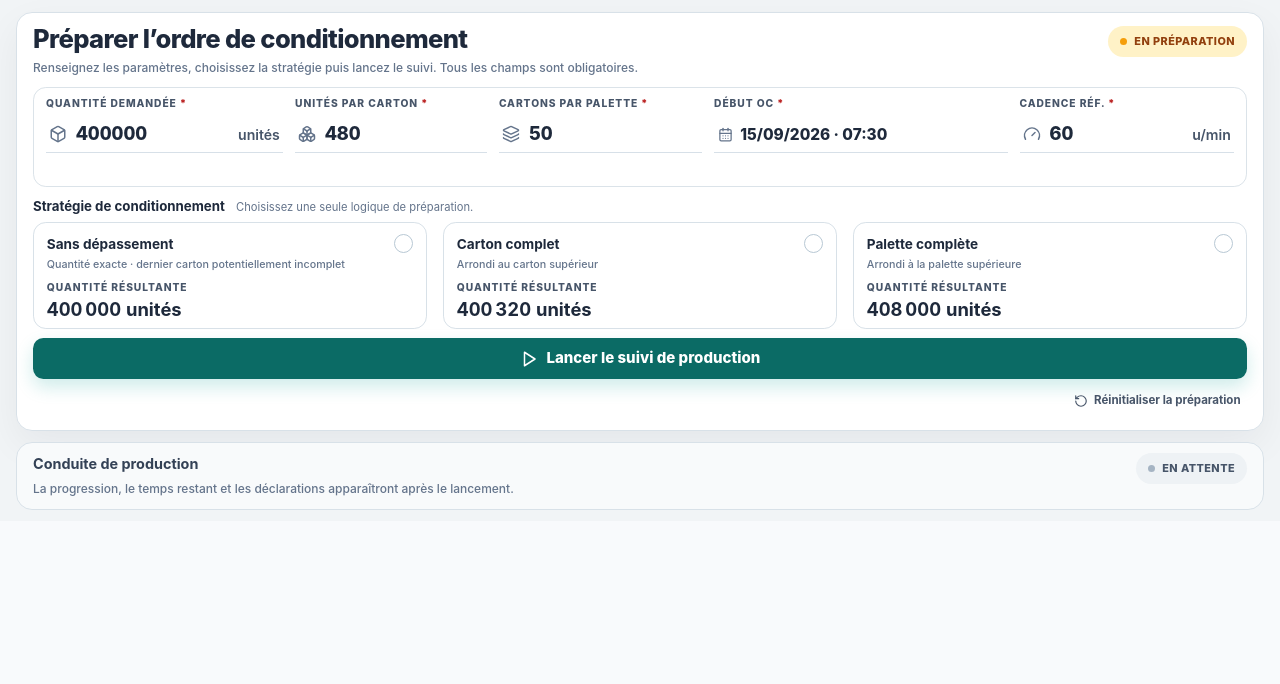
Test: PackingCalculatorPage V3 operator workflow › previews and records cartons plus units in the incomplete carton
Click the radio button labelled "Carton complet" at (508,244), box [443, 222, 837, 329]
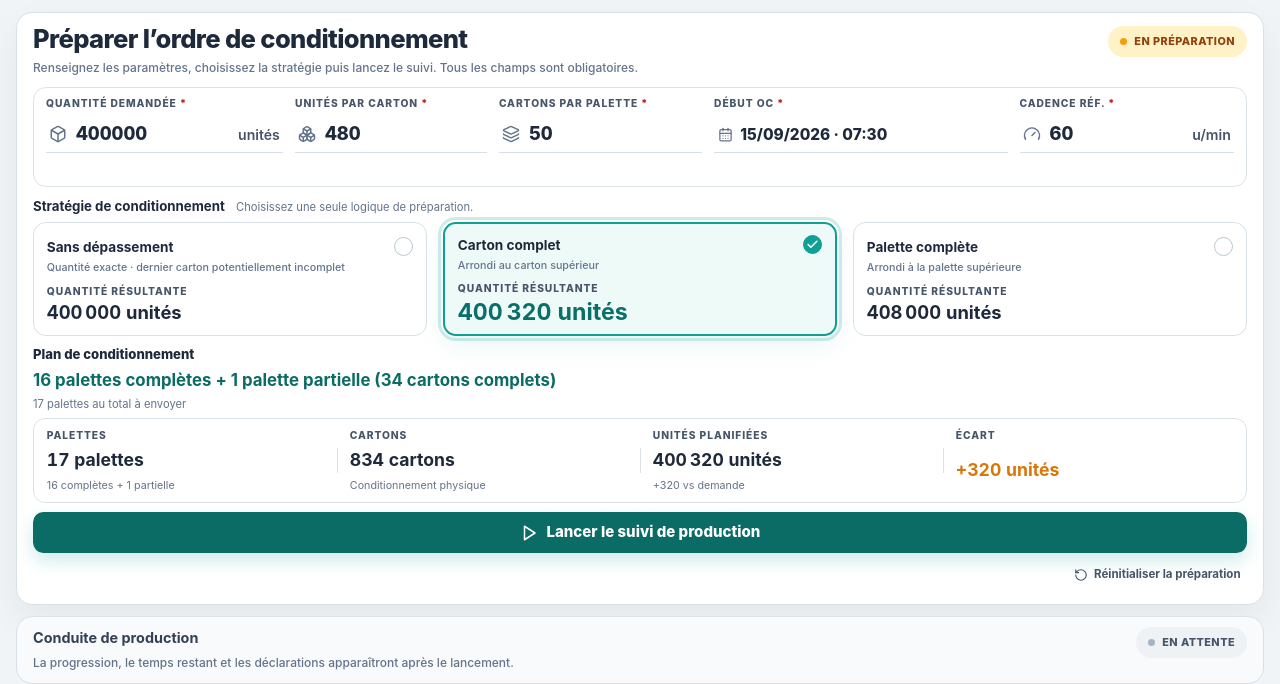
Click the button "Lancer le suivi de production" at (640,533), box [33, 512, 1247, 553]
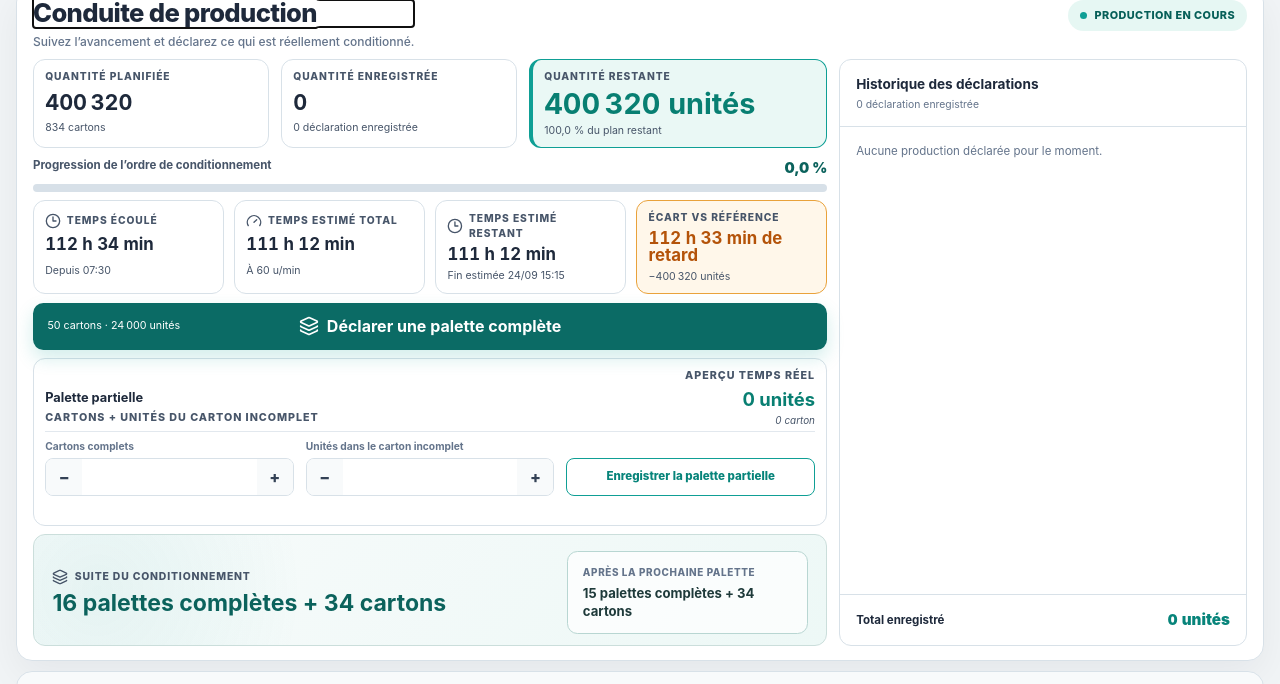
Type "10" into the field named "Cartons complets" at (170,477), box [82, 459, 257, 494]
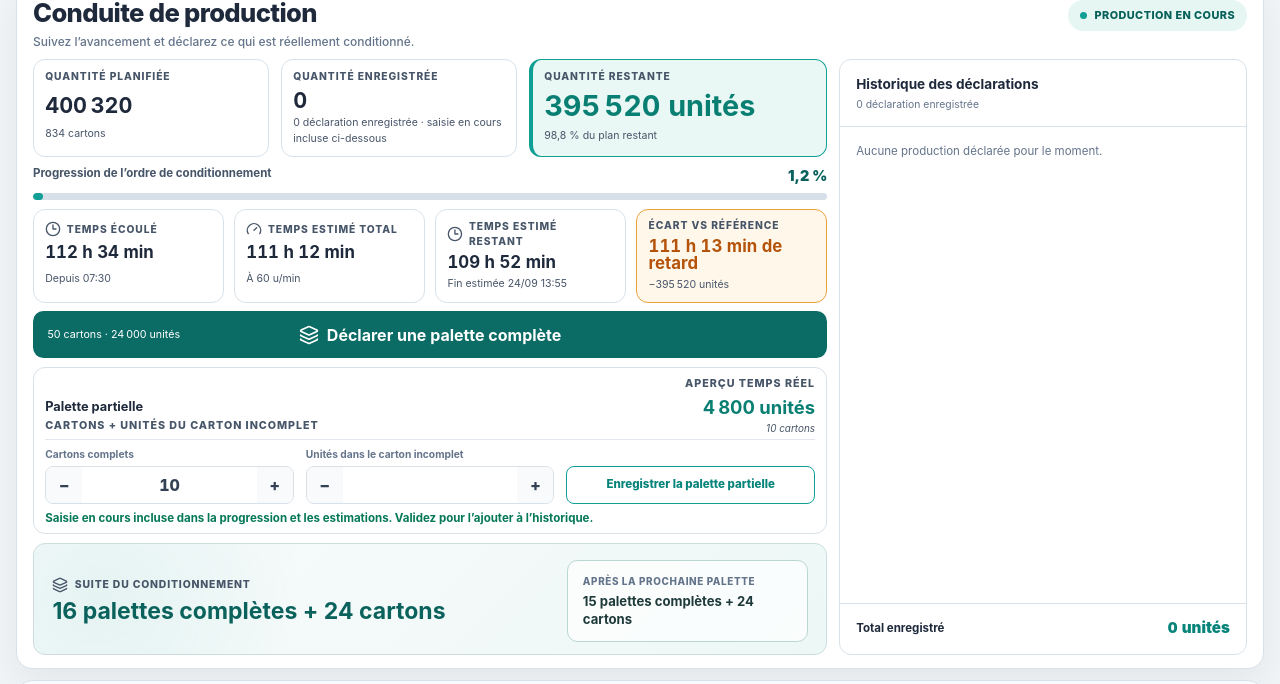
Type "120" into the field named "Unités dans le carton incomplet" at (430,485), box [343, 467, 517, 503]
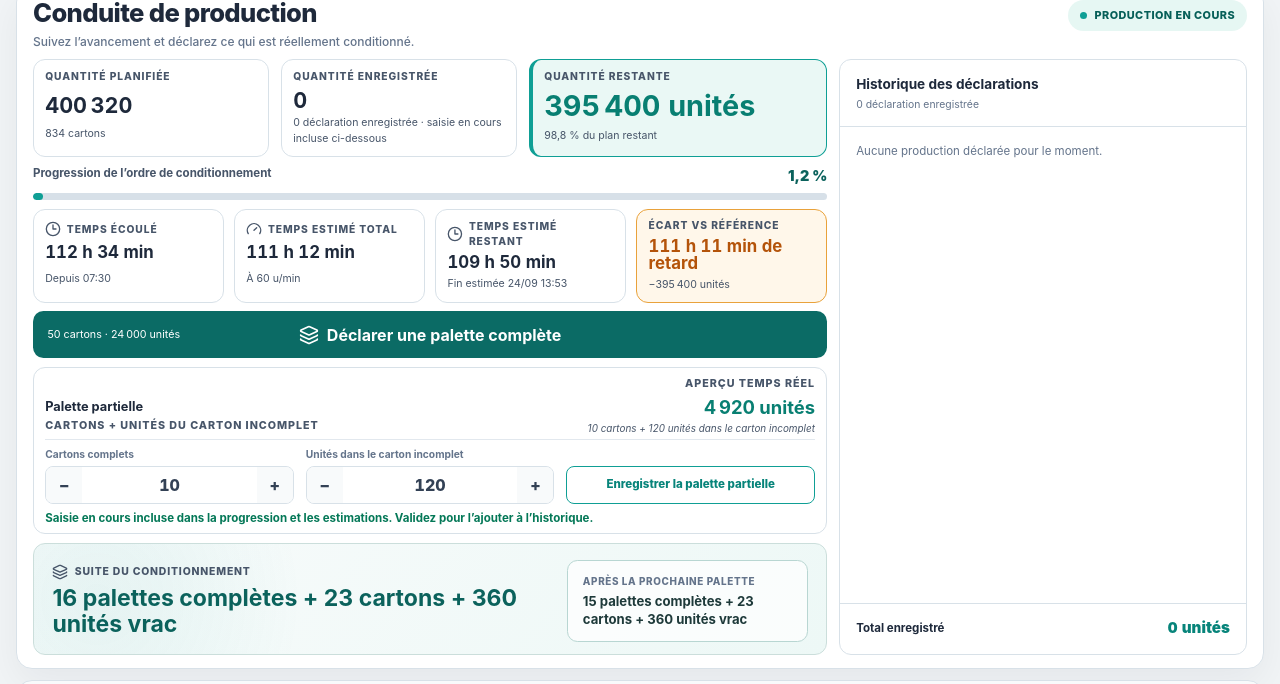
Result: the text "4 920 unités" is shown at [704, 396, 815, 418]
Click the button "Enregistrer la palette partielle" at (691,485), box [566, 466, 815, 504]
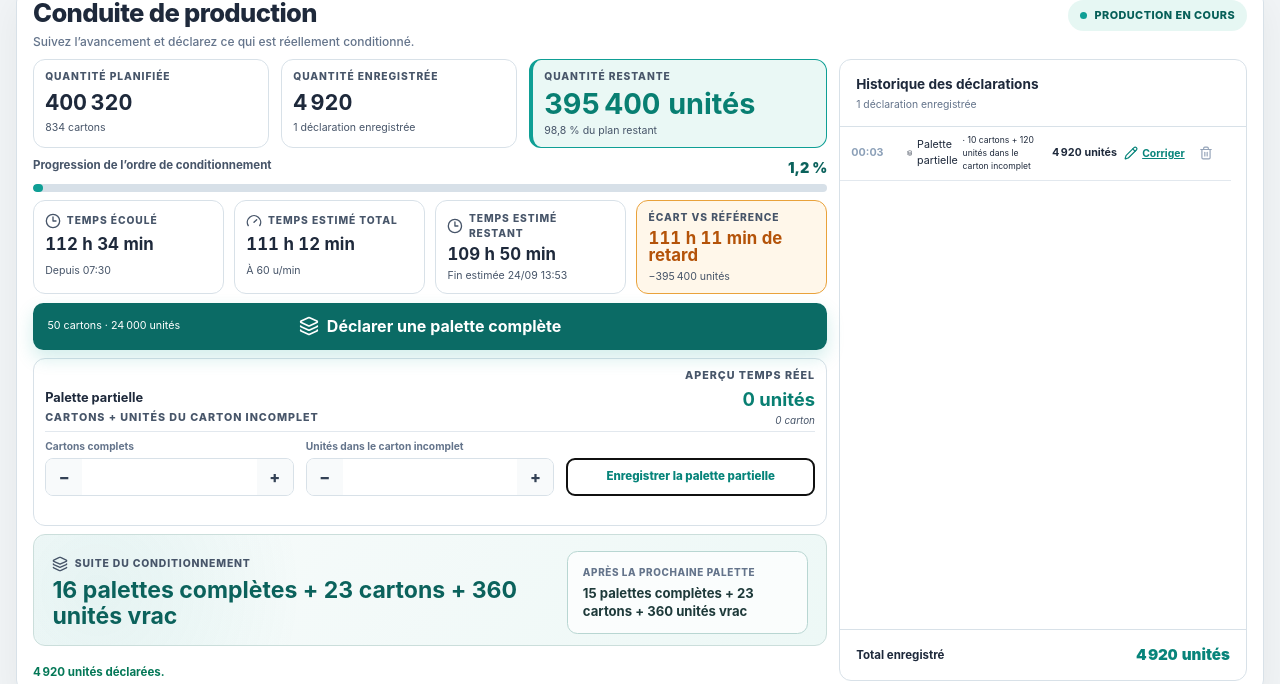
Result: the message reads "4 920 unités déclarées." at [33, 665, 164, 679]
Result: the text "Palette partielle" is shown at [917, 138, 958, 167]
